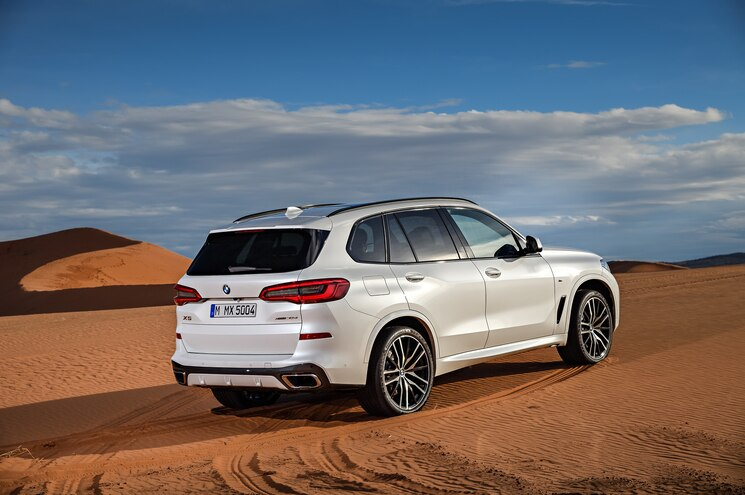bmw: (167, 194, 622, 418)
